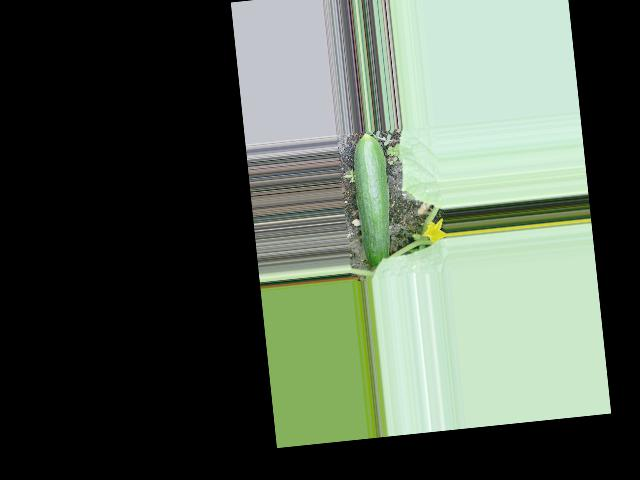cucumber: (349, 131, 396, 268)
